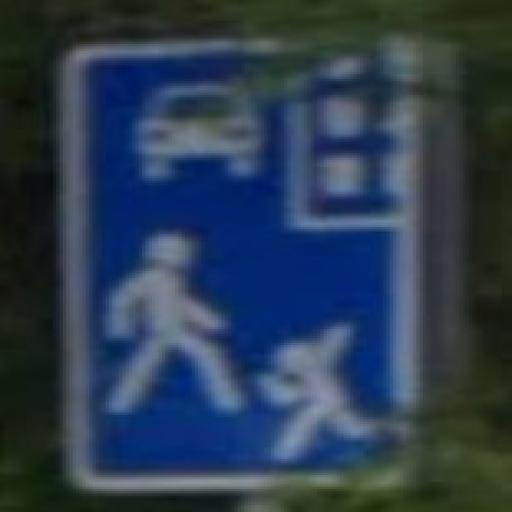traffic_sign: (51, 34, 434, 495)
